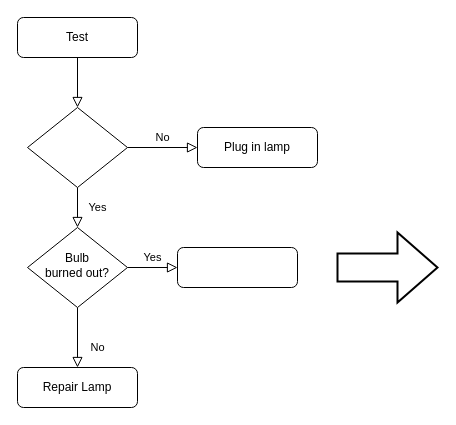
Some shapes in this 456 by 425 pixel diagram are drawn without their labels. The shapes that lost their labels are listed below. From the top down, each one's centre as x and y in pixels, then its label:
pixel 77 147: Lamp plugged in?
pixel 237 267: Replace Bulb
